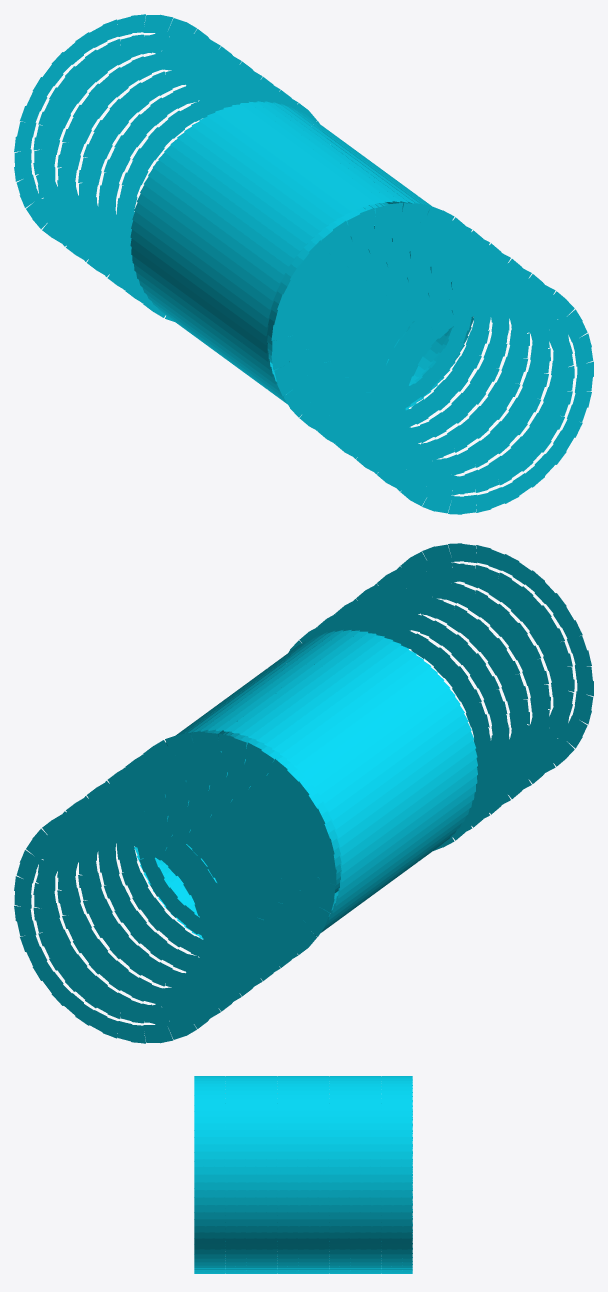
File: long_strips.gltf
The picture shows the model from 3 angles, top to bottom: view 1: azimuth 30°, elevation 25°; view 2: azimuth 150°, elevation 25°; view 3: azimuth 270°, elevation 25°; orthographic projection. The views are drawn at different scales.
Parts seen in each view (by area): view 1: LongStrips_Barrel_sensitives_l3, LongStrips_PositiveEndcap_sensitives_l11, LongStrips_PositiveEndcap_sensitives_l9, LongStrips_PositiveEndcap_sensitives_l7, LongStrips_PositiveEndcap_sensitives_l5, LongStrips_PositiveEndcap_sensitives_l3, LongStrips_PositiveEndcap_sensitives_l1, LongStrips_NegativeEndcap_sensitives_l1, LongStrips_NegativeEndcap_sensitives_l3, LongStrips_NegativeEndcap_sensitives_l5, LongStrips_NegativeEndcap_sensitives_l7, LongStrips_NegativeEndcap_sensitives_l9 (+2 smaller); view 2: LongStrips_Barrel_sensitives_l3, LongStrips_NegativeEndcap_sensitives_l1, LongStrips_NegativeEndcap_sensitives_l3, LongStrips_NegativeEndcap_sensitives_l5, LongStrips_NegativeEndcap_sensitives_l7, LongStrips_NegativeEndcap_sensitives_l9, LongStrips_NegativeEndcap_sensitives_l11, LongStrips_PositiveEndcap_sensitives_l11, LongStrips_PositiveEndcap_sensitives_l9, LongStrips_PositiveEndcap_sensitives_l7, LongStrips_PositiveEndcap_sensitives_l5, LongStrips_PositiveEndcap_sensitives_l3 (+2 smaller); view 3: LongStrips_Barrel_sensitives_l3.
Boxes of the visible parts, x1,y1,x2,y2 form: LongStrips_Barrel_sensitives_l3: (130,101,473,414); LongStrips_PositiveEndcap_sensitives_l11: (372,276,593,514); LongStrips_PositiveEndcap_sensitives_l9: (348,259,569,495); LongStrips_PositiveEndcap_sensitives_l7: (328,244,549,477); LongStrips_PositiveEndcap_sensitives_l5: (307,228,526,457); LongStrips_PositiveEndcap_sensitives_l3: (289,215,509,443); LongStrips_PositiveEndcap_sensitives_l1: (271,202,490,430); LongStrips_NegativeEndcap_sensitives_l1: (14,14,218,245); LongStrips_NegativeEndcap_sensitives_l3: (38,31,239,261); LongStrips_NegativeEndcap_sensitives_l5: (58,47,253,274); LongStrips_NegativeEndcap_sensitives_l7: (79,62,279,290); LongStrips_NegativeEndcap_sensitives_l9: (97,75,296,303); LongStrips_Barrel_sensitives_l3: (134,630,477,939); LongStrips_NegativeEndcap_sensitives_l1: (14,805,235,1043); LongStrips_NegativeEndcap_sensitives_l3: (38,788,259,1024); LongStrips_NegativeEndcap_sensitives_l5: (61,773,279,1006); LongStrips_NegativeEndcap_sensitives_l7: (82,758,300,986); LongStrips_NegativeEndcap_sensitives_l9: (98,745,318,972); LongStrips_NegativeEndcap_sensitives_l11: (116,732,336,958); LongStrips_PositiveEndcap_sensitives_l11: (397,543,593,772); LongStrips_PositiveEndcap_sensitives_l9: (374,560,570,788); LongStrips_PositiveEndcap_sensitives_l7: (353,576,549,804); LongStrips_PositiveEndcap_sensitives_l5: (334,591,528,818); LongStrips_PositiveEndcap_sensitives_l3: (303,604,510,837); LongStrips_Barrel_sensitives_l3: (194,1076,412,1273).
Bounding box in the file's own units: 2.14 × 2.14 × 6.05.
